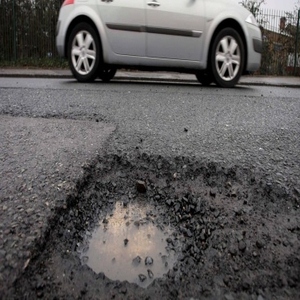pothole: (66, 159, 219, 296)
